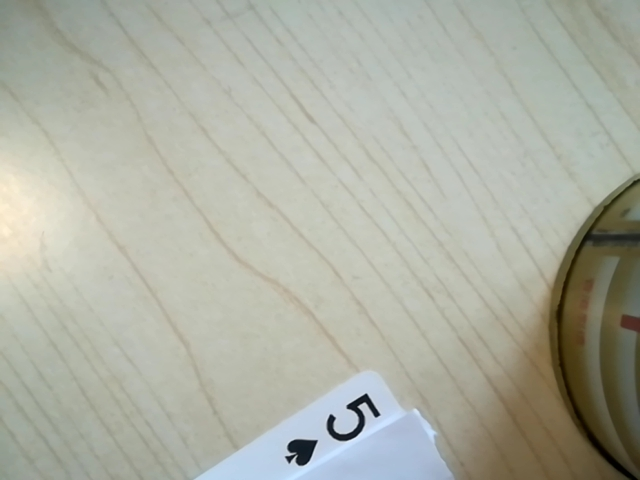ht 5: (261, 388, 396, 469)
